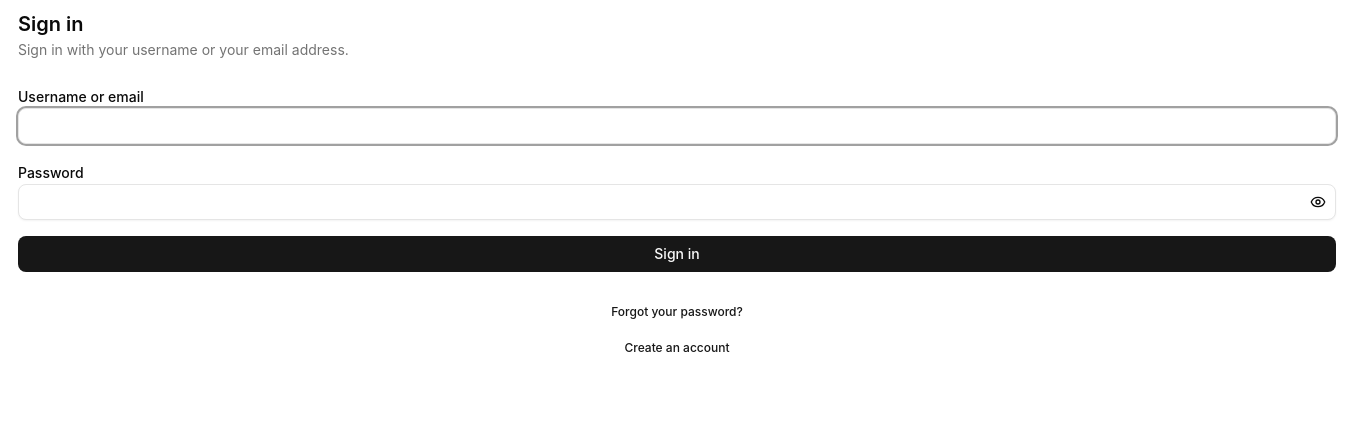
shows the seconds to wait after a rate limit
The width and height of the screenshot is (1355, 431).
Step 1. Type "jane" into the field labelled "Username or email" → x=677, y=126, box x1=18 y1=108 x2=1336 y2=144
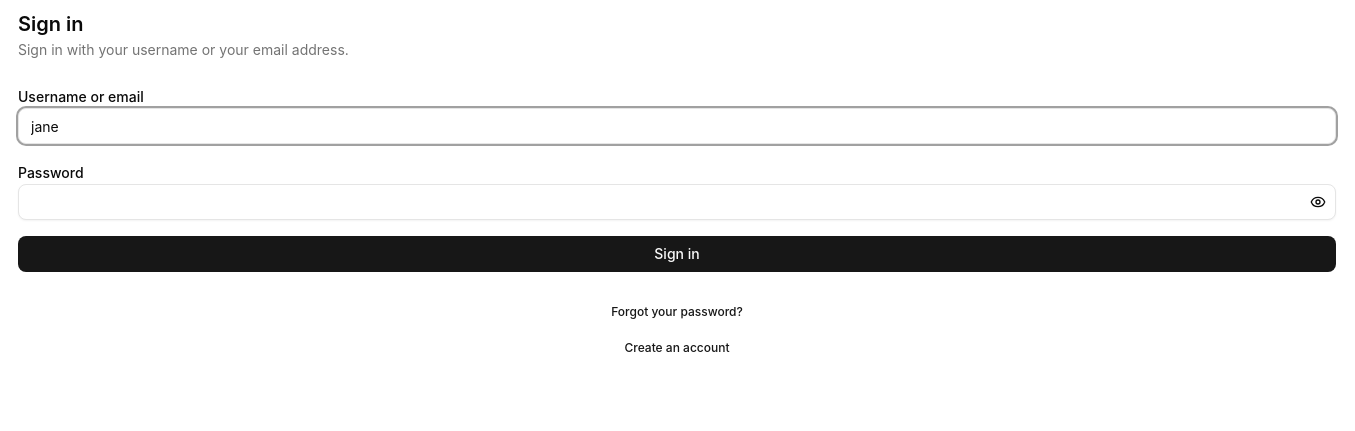
Step 2. Type "a-long-enough-password" into the password field labelled "Password" → x=677, y=202, box x1=18 y1=184 x2=1336 y2=220
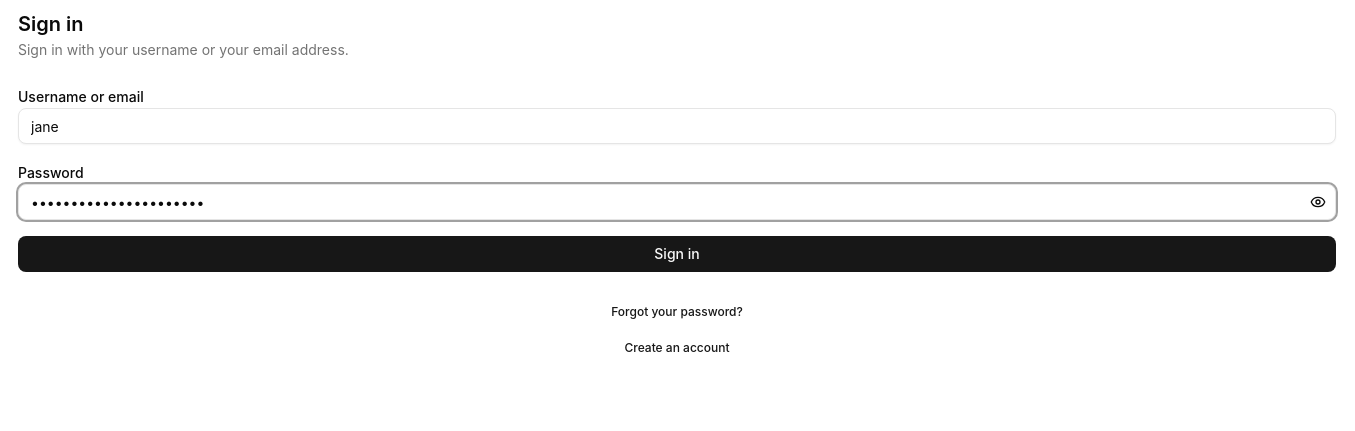
Step 3. Click the button "Sign in" → x=677, y=254, box x1=18 y1=236 x2=1336 y2=272
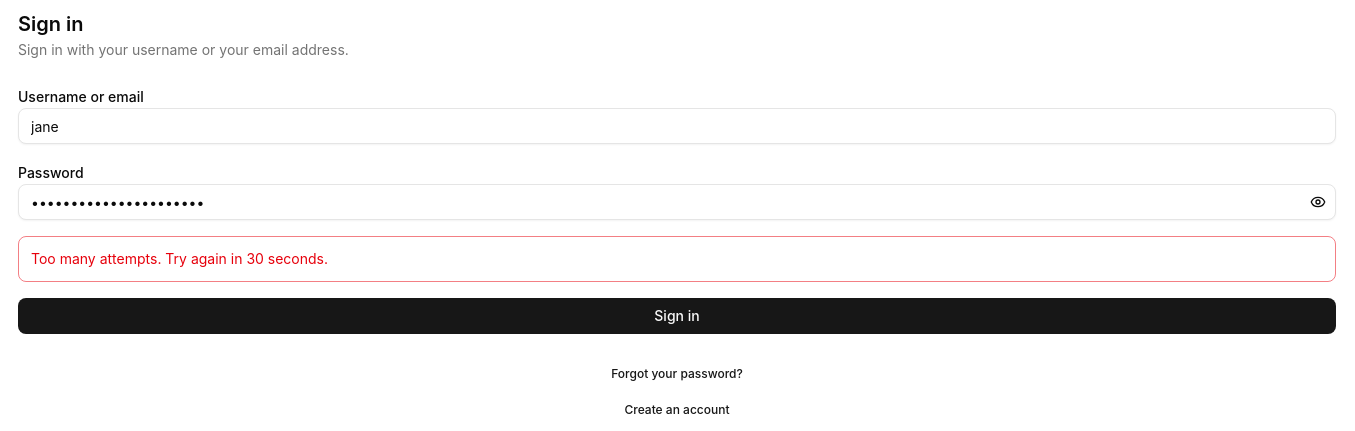
Now the message reads "Too many attempts. Try again in 30 seconds.", box x1=31 y1=250 x2=328 y2=267
